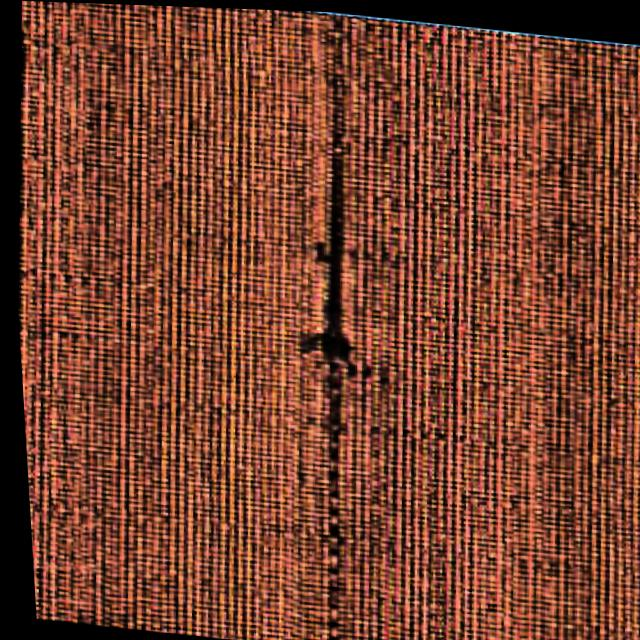Stitch: (275, 221, 385, 366)
